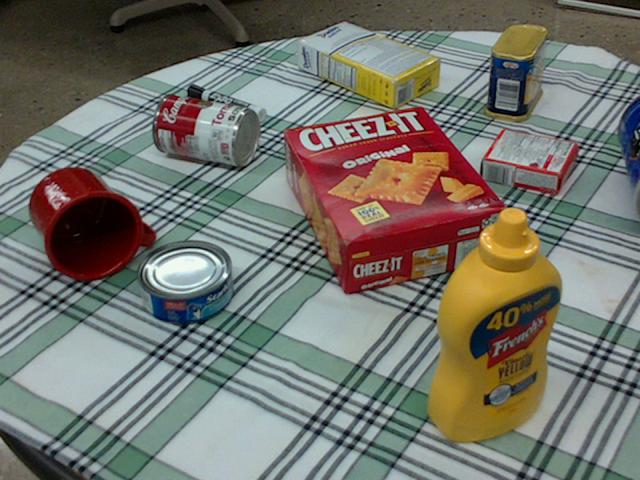cracker_box: (286, 106, 507, 291)
gelatin_box: (480, 129, 574, 192)
large_marker: (186, 84, 264, 120)
master_chef_can: (614, 94, 639, 216)
mug: (28, 167, 152, 280)
mustard_bottle: (429, 205, 563, 439)
potted_meat_can: (483, 24, 546, 121)
sugar_box: (297, 21, 442, 107)
tomato_soup_can: (151, 93, 259, 164)
tuna_fish_can: (134, 240, 231, 323)
